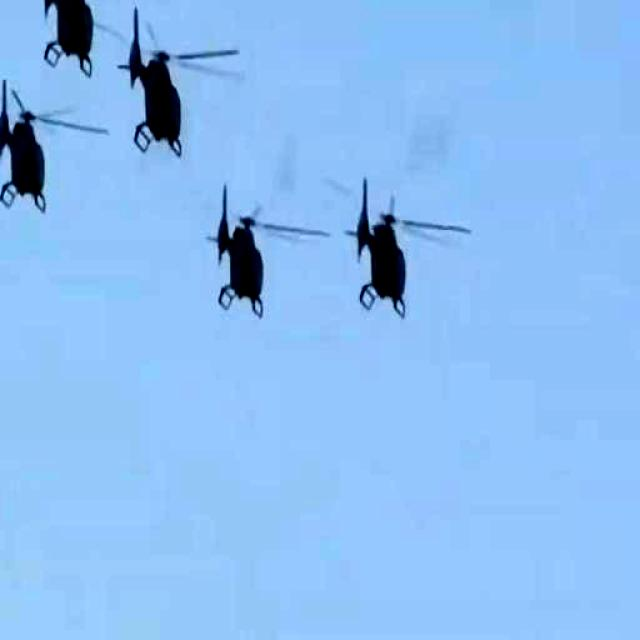drone: (324, 170, 438, 348), (115, 10, 204, 176), (176, 175, 284, 311), (11, 0, 116, 79), (0, 81, 56, 228)
